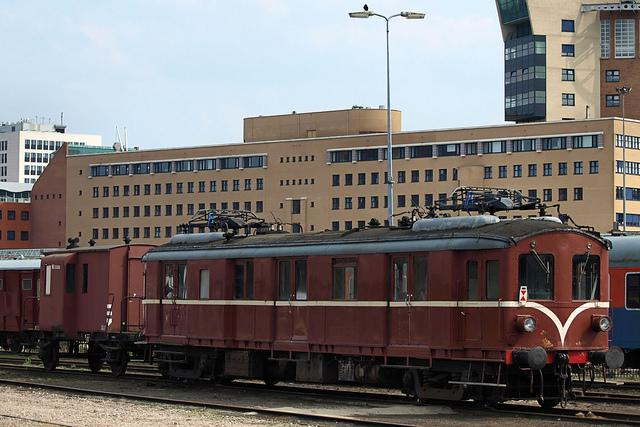Train: (0, 177, 621, 414), (603, 232, 640, 367)
